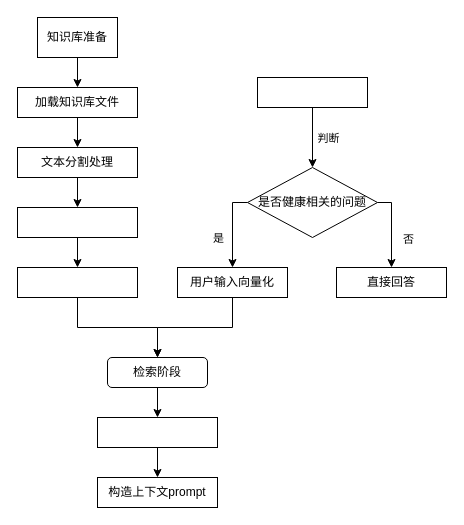
Image size: 464x525. Some labels were removed from this diagram. The shapes that lost their labels are listed below. From the top down, each one's centre as x and y in pixels, then its label:
At (312,92): "用户输入".
At (77,222): "向量化嵌入".
At (77,282): "构建向量数据库".
At (157,432): "相似度召回".
